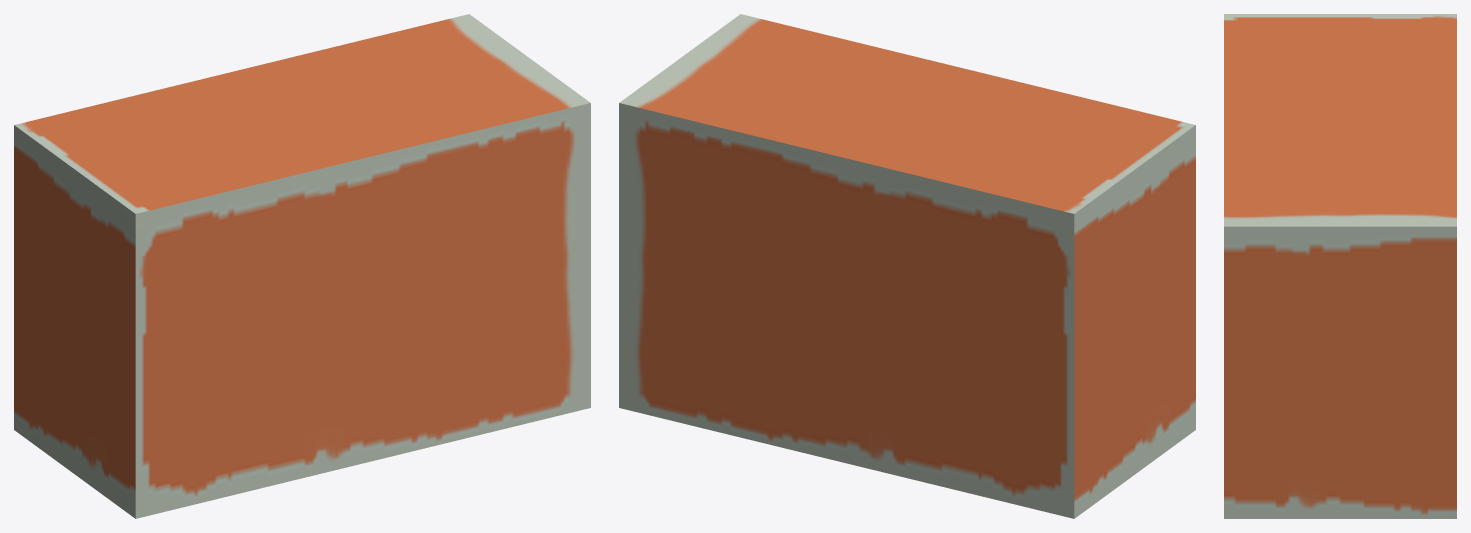
The model's file is Brick_01.fbx.
3 renders of one model, left to right at view 1: azimuth 30°, elevation 25°; view 2: azimuth 150°, elevation 25°; view 3: azimuth 270°, elevation 25°, orthographic. The views are drawn at different scales.
Parts seen in each view (by area): view 1: Brick_01; view 2: Brick_01; view 3: Brick_01.
Boxes of the visible parts, x1,y1,x2,y2 form: Brick_01: [14, 14, 590, 518]; Brick_01: [619, 14, 1195, 518]; Brick_01: [1224, 14, 1456, 518].
Size of the model in its own units: 38.83 by 24.86 by 17.96.
